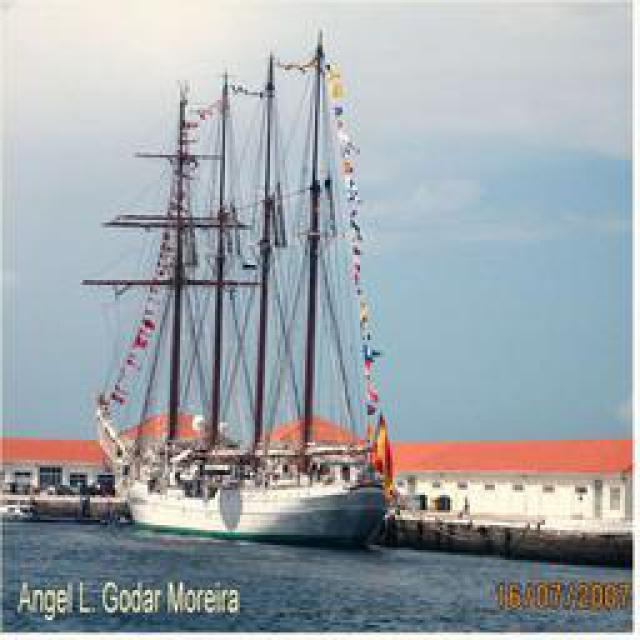Ship: (91, 27, 386, 547)
